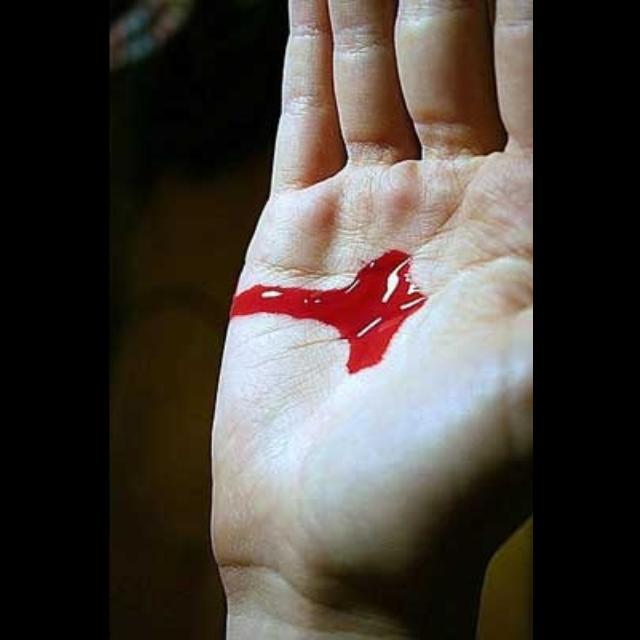blood: (230, 248, 425, 373)
